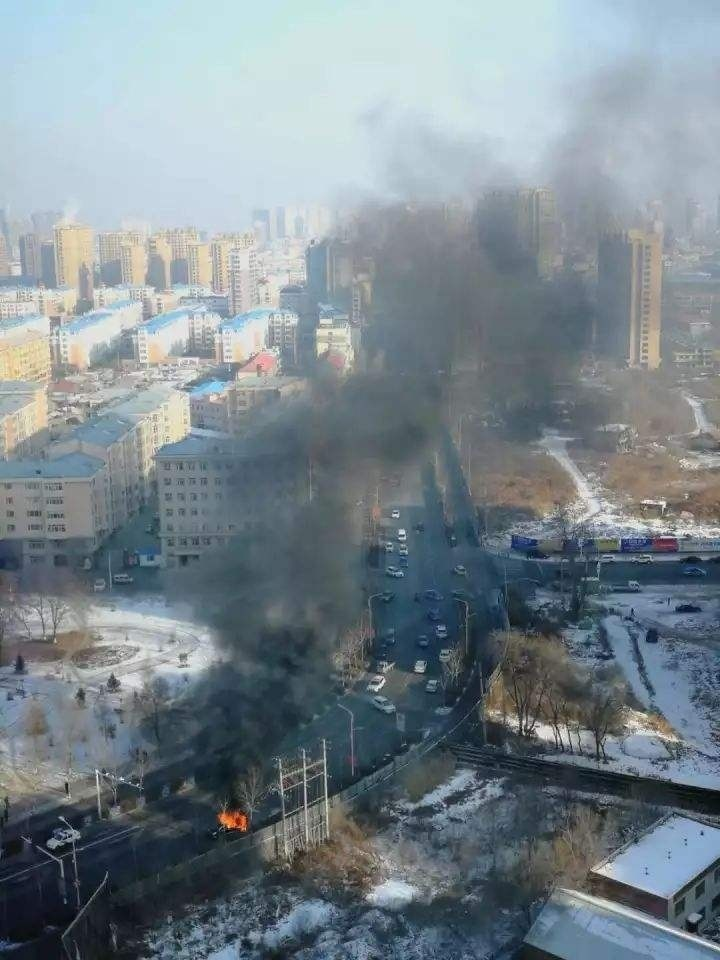fire: (216, 805, 248, 830)
